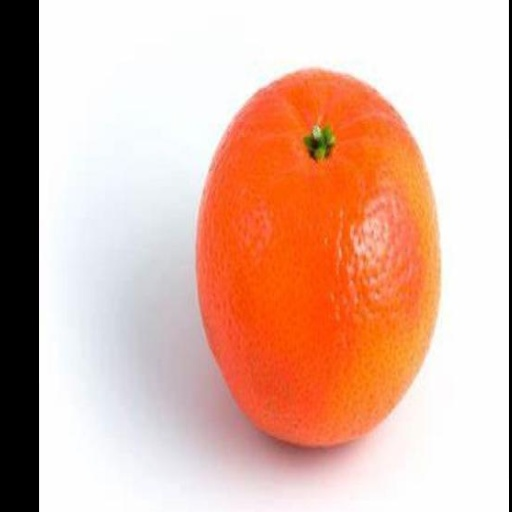fruit: (197, 70, 438, 445)
